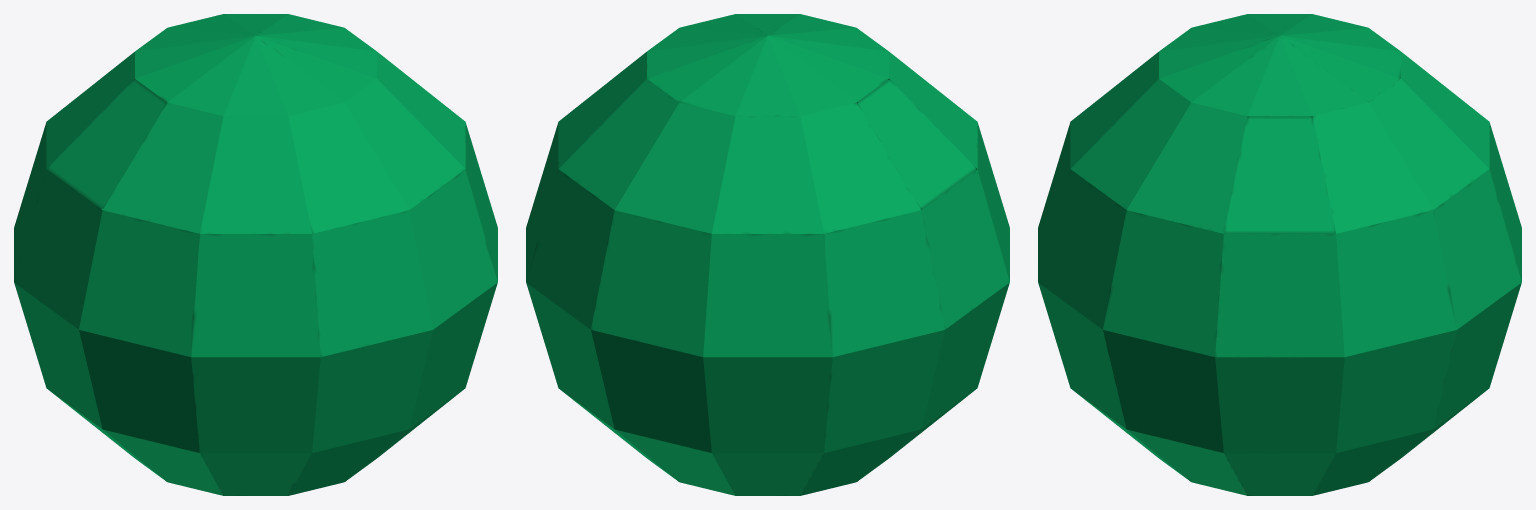
File: nyc_subway_entrance_1_globe_light_2g_light_layer.obj
The picture shows the model from 3 angles, left to right: view 1: azimuth 30°, elevation 25°; view 2: azimuth 150°, elevation 25°; view 3: azimuth 270°, elevation 25°; orthographic projection.
Parts seen in each view (by area): view 1: sphere; view 2: sphere; view 3: sphere.
Boxes of the visible parts, x1,y1,x2,y2 form: sphere: (14,14,497,495); sphere: (526,14,1009,495); sphere: (1038,14,1521,495).
Size of the model in its own units: 0.5006 by 0.5006 by 0.5006.
Materials: 1 (1 with a texture image).
